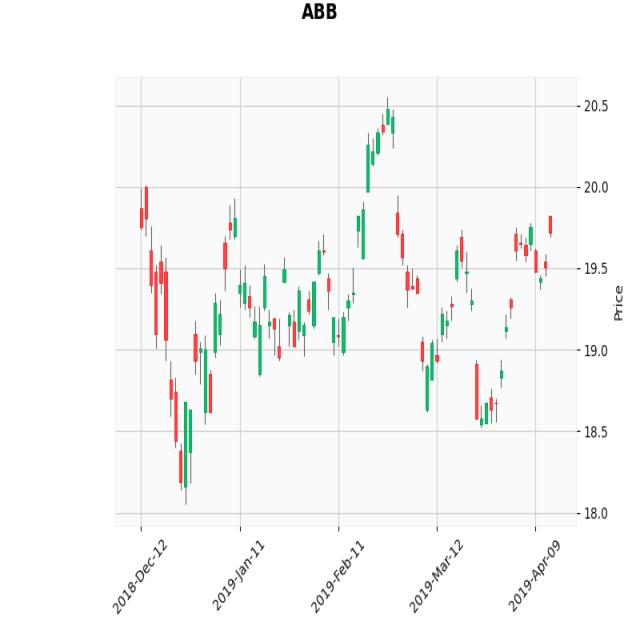Double-Bottom: (392, 196, 543, 438)
